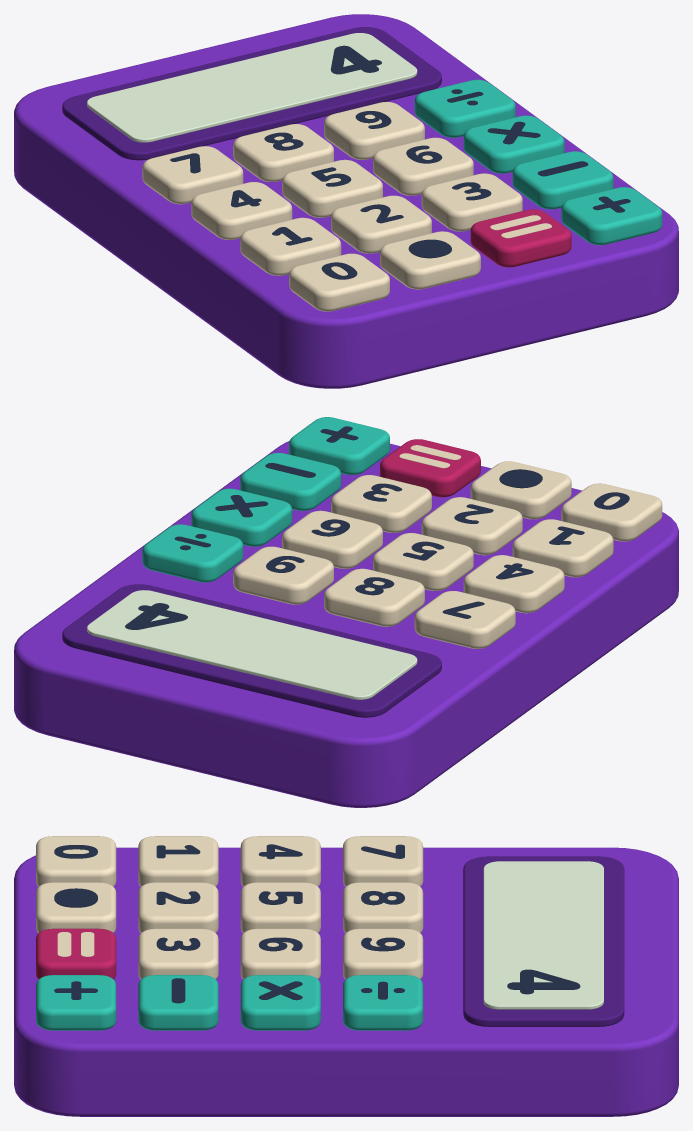
Rendered from calculator.glb.
3 views of the same model, one above another, from view 1: azimuth 30°, elevation 25°; view 2: azimuth 150°, elevation 25°; view 3: azimuth 270°, elevation 25° (orthographic). The views are drawn at different scales.
Parts seen in each view (by area): view 1: Violet calculator body, LCD glass, Display bezel, Key +, Key 0, Key ÷, Key 7, Key =, Key 1, Key −, Key 3, Key 4 (+10 smaller); view 2: Violet calculator body, LCD glass, Display bezel, Key ÷, Key 7, Key 9, Key 8, Key 1, Key −, Key 2, Key 4, Key + (+10 smaller); view 3: Violet calculator body, LCD glass, Display bezel, Key ÷, Key +, Key −, Key ×, Key 7, Key 1, Key 4, Key 2, Key 3 (+16 smaller).
Boxes of the visible parts, bbox=[...] form: Violet calculator body: bbox=[14, 14, 678, 388]; LCD glass: bbox=[87, 33, 417, 142]; Display bezel: bbox=[62, 27, 441, 160]; Key +: bbox=[561, 187, 662, 245]; Key 0: bbox=[289, 253, 389, 311]; Key ÷: bbox=[414, 79, 515, 137]; Key 7: bbox=[142, 146, 243, 204]; Key =: bbox=[470, 209, 571, 267]; Key 1: bbox=[240, 217, 341, 275]; Key −: bbox=[512, 151, 613, 209]; Key 3: bbox=[421, 173, 522, 231]; Key 4: bbox=[191, 182, 292, 239]; Violet calculator body: bbox=[14, 441, 678, 807]; LCD glass: bbox=[87, 590, 417, 699]; Display bezel: bbox=[62, 584, 441, 717]; Key ÷: bbox=[142, 524, 243, 582]; Key 7: bbox=[414, 591, 515, 648]; Key 9: bbox=[233, 546, 333, 604]; Key 8: bbox=[324, 568, 424, 626]; Key 1: bbox=[512, 519, 613, 577]; Key −: bbox=[240, 452, 341, 510]; Key 2: bbox=[421, 497, 522, 555]; Key 4: bbox=[463, 555, 564, 613]; Key +: bbox=[289, 417, 389, 475]; Violet calculator body: bbox=[14, 847, 678, 1116]; LCD glass: bbox=[483, 861, 603, 1009]; Display bezel: bbox=[463, 856, 624, 1026]; Key ÷: bbox=[343, 975, 423, 1030]; Key +: bbox=[36, 975, 116, 1030]; Key −: bbox=[138, 975, 218, 1030]; Key ×: bbox=[240, 975, 320, 1030]; Key 7: bbox=[343, 836, 423, 886]; Key 1: bbox=[138, 836, 218, 886]; Key 4: bbox=[240, 836, 320, 886]; Key 2: bbox=[138, 882, 218, 932]; Key 3: bbox=[138, 928, 218, 979].
Bounding box in the file's own units: 1.3 × 0.2948 × 1.82.
